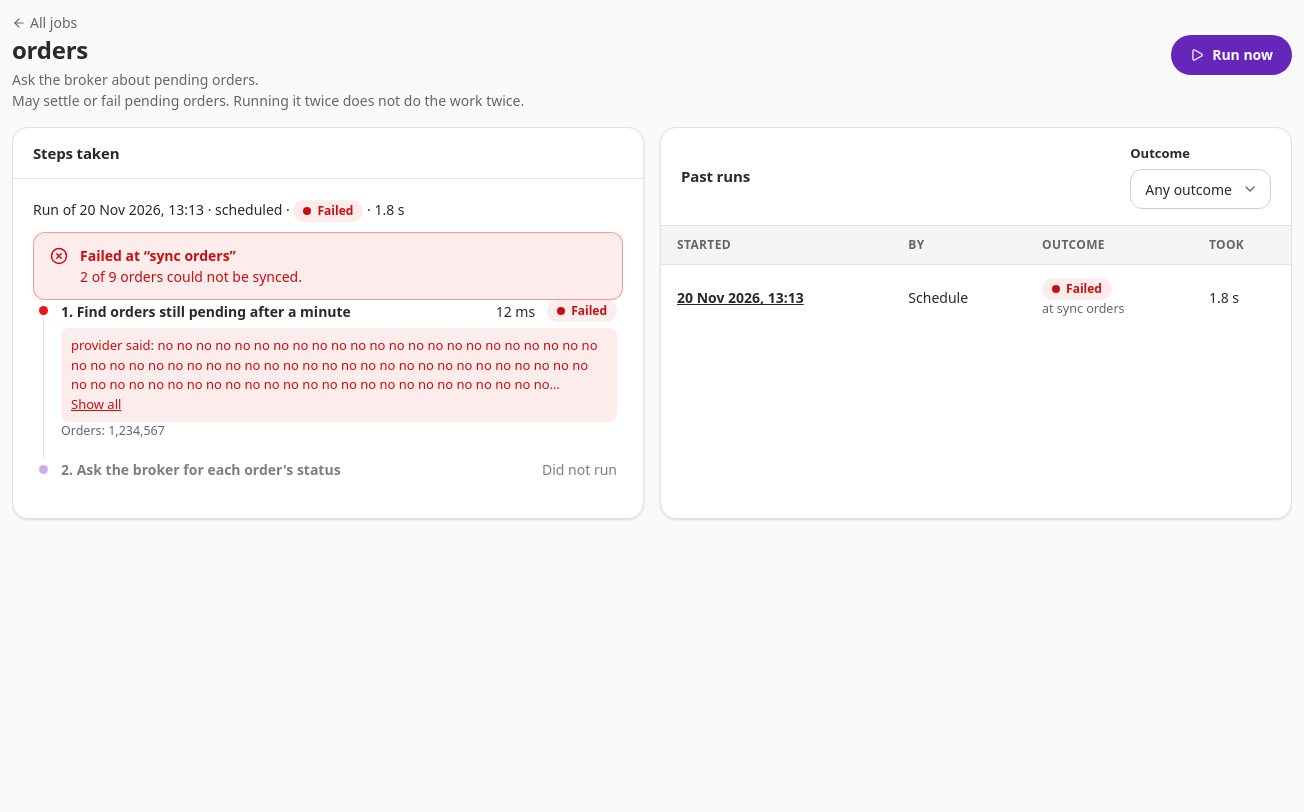
Test: large values › cuts a very long error to a readable length and lets you open all of it
Expected: the text "Orders: 1,234,567" is shown, 61,422 -> 165,439
Step 1. Click the button "Show all" → (96, 405), box 71,395 -> 121,414
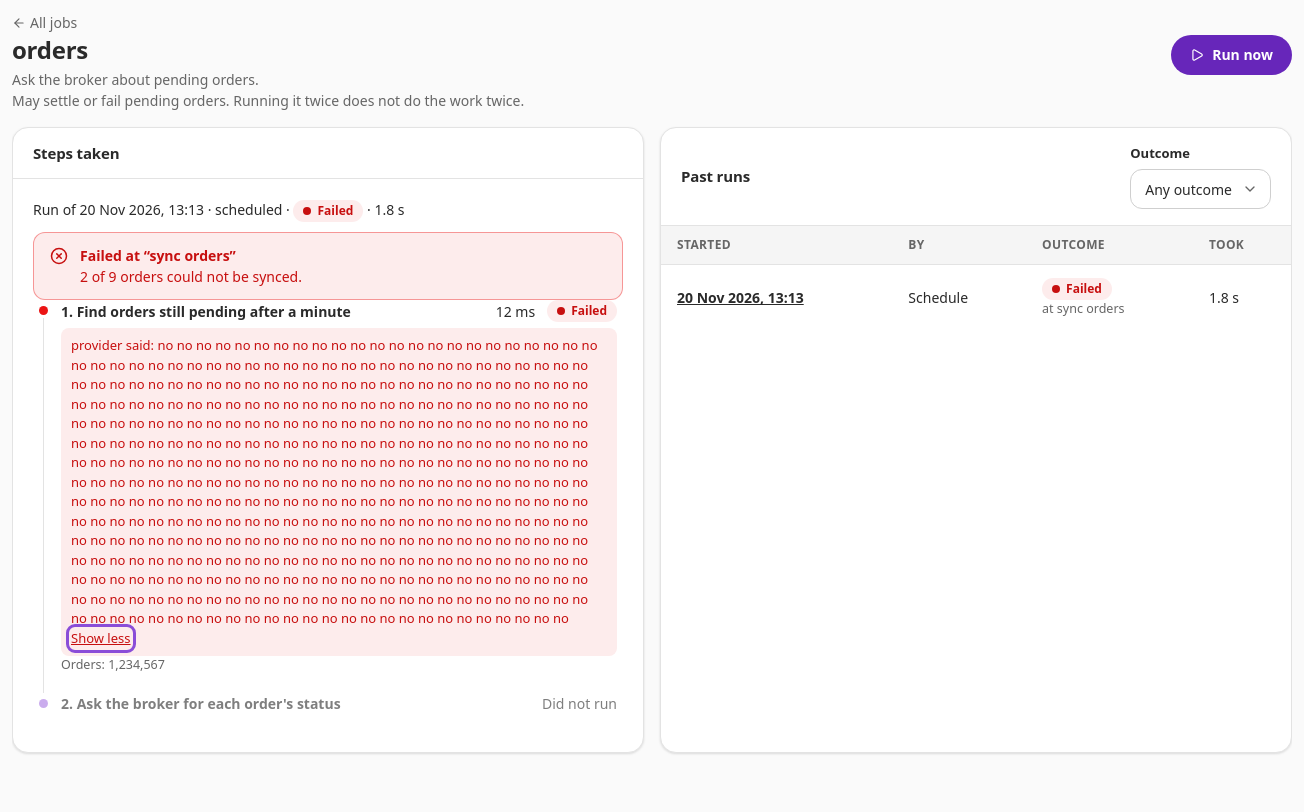
Expected: the button "Show less" is shown, 71,629 -> 130,648
